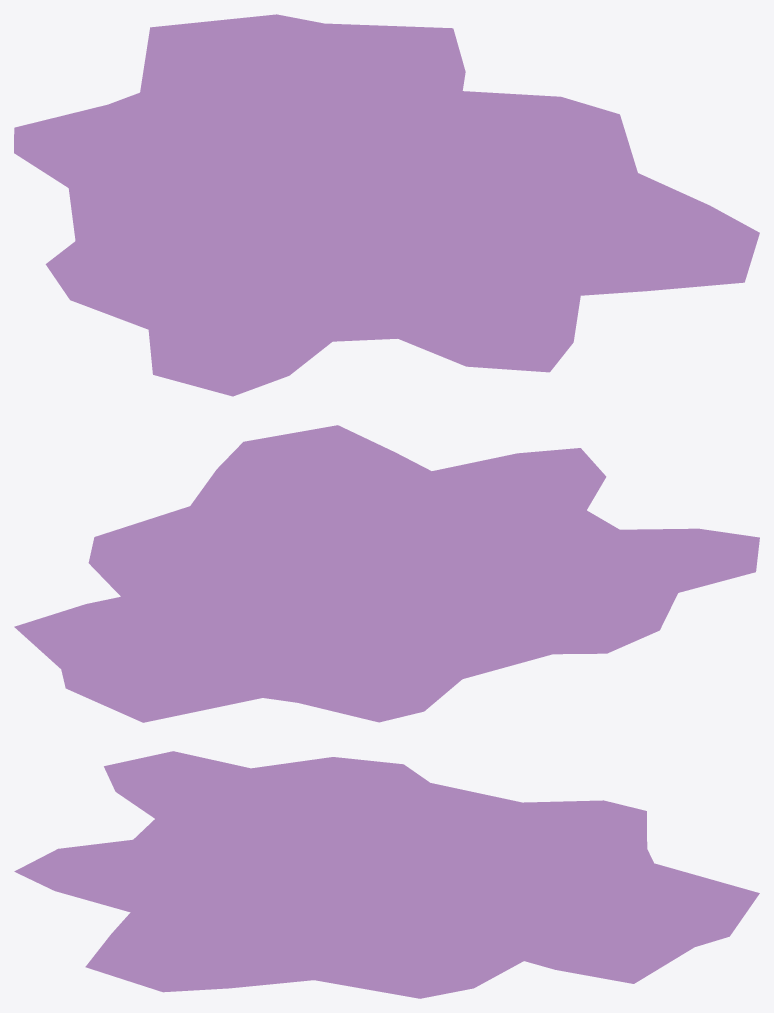
The model's file is Stains6.fbx.
3 renders of one model, top to bottom at view 1: azimuth 30°, elevation 25°; view 2: azimuth 150°, elevation 25°; view 3: azimuth 270°, elevation 25°, orthographic. The views are drawn at different scales.
Parts seen in each view (by area): view 1: Plane; view 2: Plane; view 3: Plane.
Boxes of the visible parts, left/top/right/bottom form: Plane: left=14, top=14, right=759, bottom=396; Plane: left=14, top=425, right=759, bottom=722; Plane: left=14, top=751, right=759, bottom=998.
Size of the model in its own units: 66.78 by 5.87e-05 by 85.
